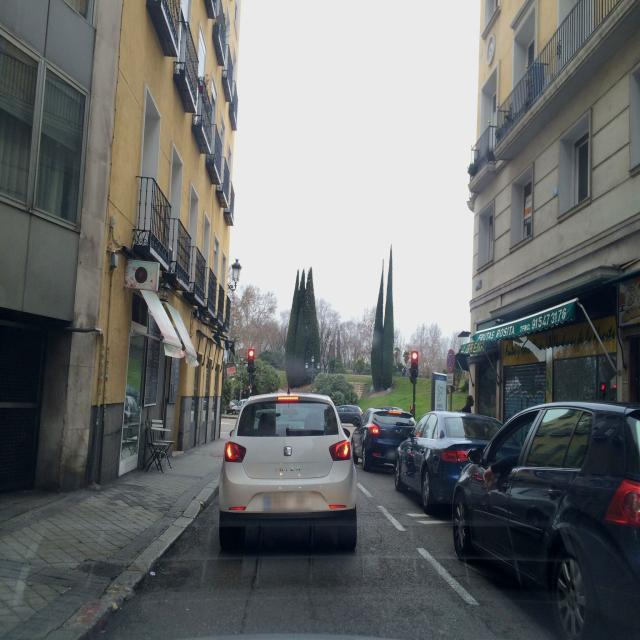car: (451, 399, 640, 640), (218, 390, 358, 549), (394, 410, 505, 512), (350, 407, 418, 472), (334, 405, 364, 441)
